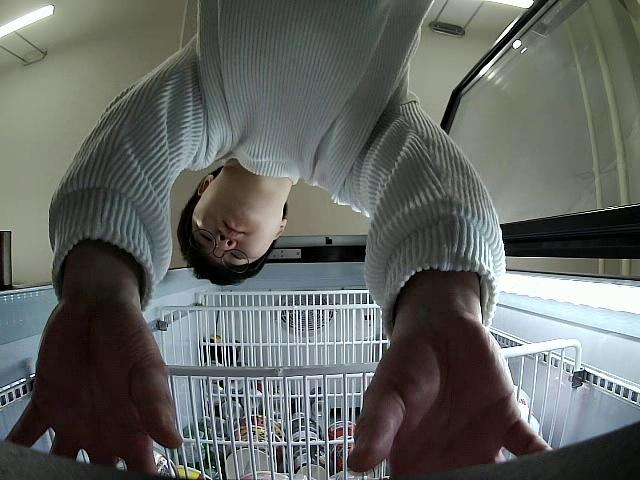00_hand: (347, 305, 553, 479), (5, 299, 183, 477)
